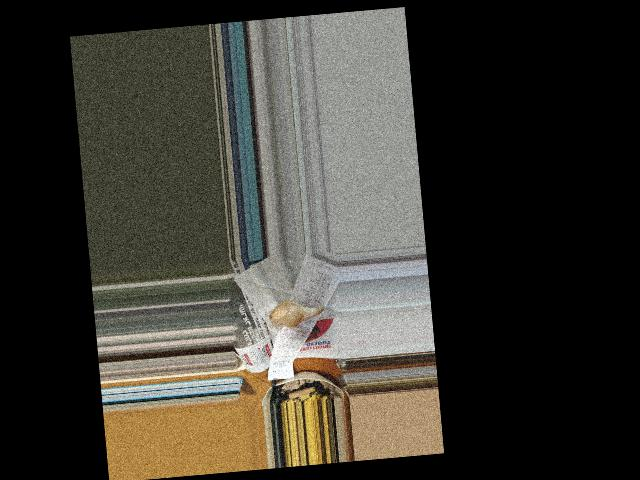onion: (265, 300, 309, 327)
